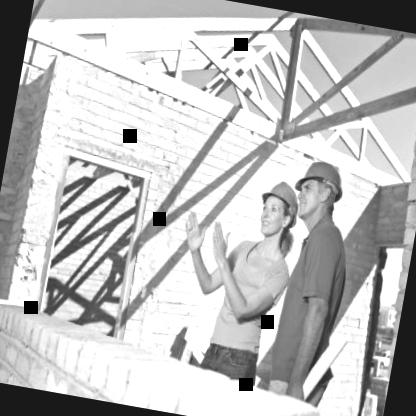helmet: (285, 148, 352, 233), (249, 168, 306, 244)
